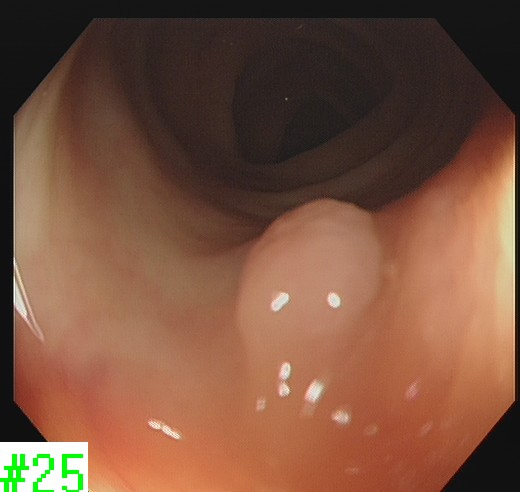adenoma: (235, 196, 384, 386)
